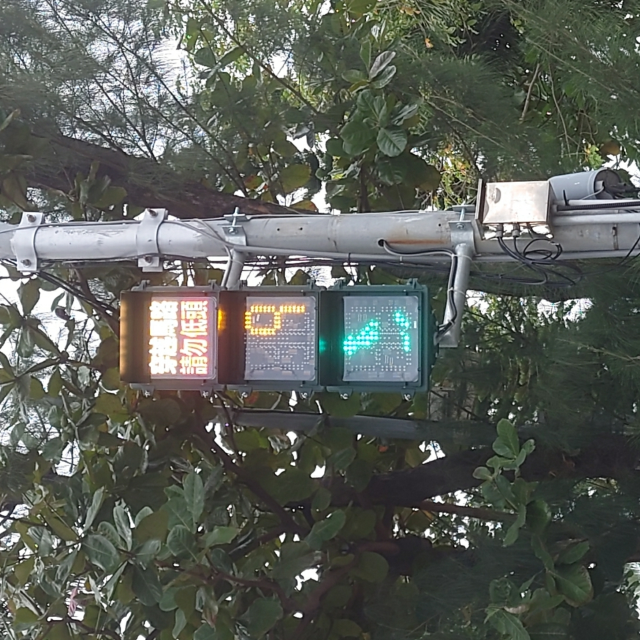green_light: (123, 290, 426, 386)
